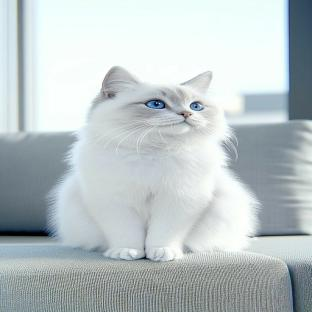Animal: (49, 67, 258, 262)
